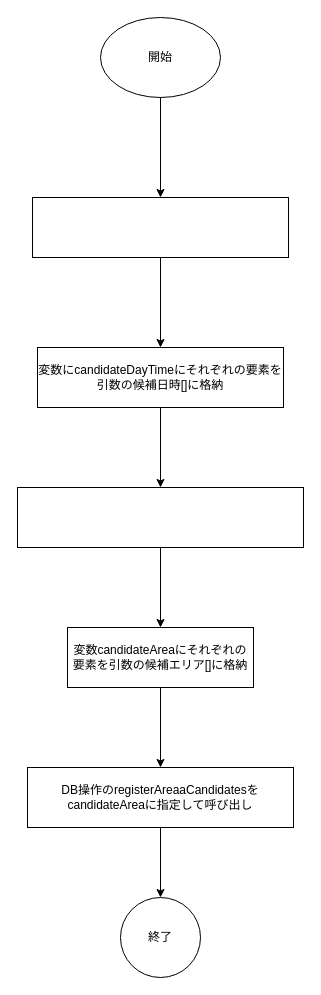
The diagram is 321 pixels wide and 995 high, and some of its shapes have lost their labels. Each missing label, with the centre of its shape:
DB操作のregisterDateCandidatesを引数にcandidateDayTimeに指定して呼び出し: [160,517]
引数の管理者ID、イベント名、コメントを引数にDB操作のcreateEvent呼び出し: [160,227]
